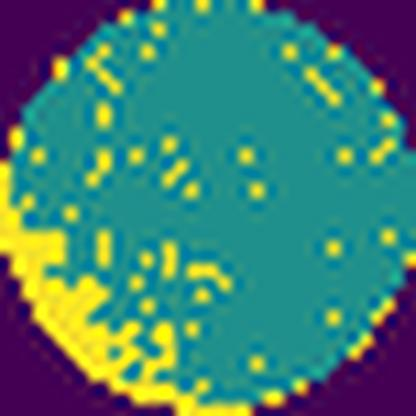Edge-Loc: (0, 161, 253, 416)
